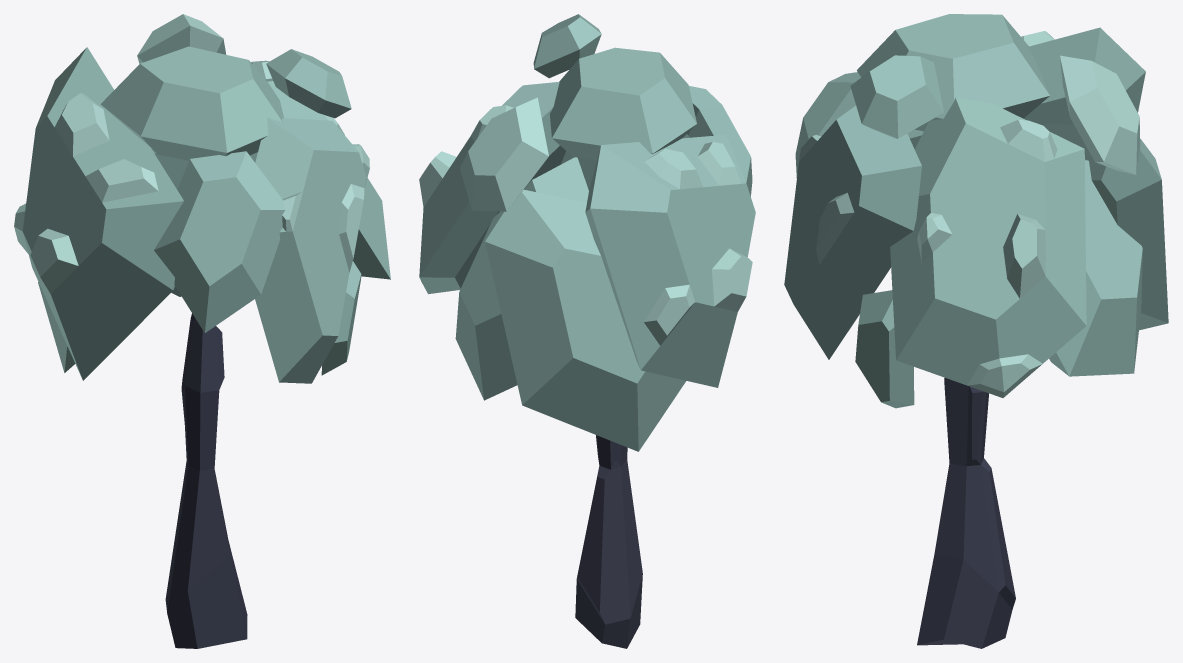
The model's file is buisson_p03.fbx.
The picture shows the model from 3 angles, left to right: view 1: azimuth 30°, elevation 25°; view 2: azimuth 150°, elevation 25°; view 3: azimuth 270°, elevation 25°; orthographic projection. The views are drawn at different scales.
Parts seen in each view (by area): view 1: Buisson_phase3; view 2: Buisson_phase3; view 3: Buisson_phase3.
Boxes of the visible parts, bbox=[...] form: Buisson_phase3: bbox=[14, 14, 390, 648]; Buisson_phase3: bbox=[419, 14, 755, 648]; Buisson_phase3: bbox=[784, 14, 1168, 648].
Size of the model in its own units: 143 by 250 by 137.
